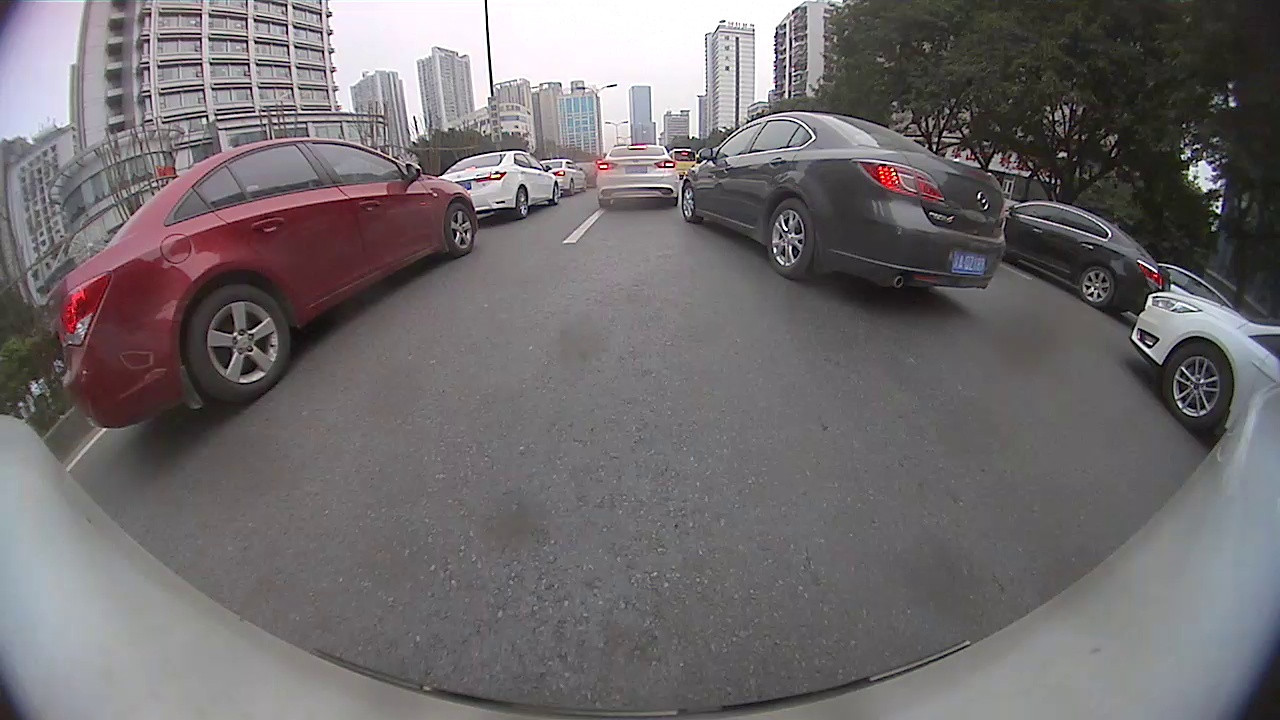bus: (667, 145, 699, 180)
car: (51, 134, 479, 428), (680, 109, 1005, 291), (1128, 287, 1279, 436), (1000, 200, 1168, 313), (436, 149, 558, 219), (598, 142, 679, 211), (1156, 262, 1234, 310), (536, 157, 586, 195)
front: (1161, 343, 1232, 430), (446, 203, 476, 257), (681, 183, 696, 224), (552, 177, 561, 205)
rear: (184, 286, 292, 404), (766, 198, 815, 281), (1080, 263, 1116, 309), (516, 182, 527, 222)
